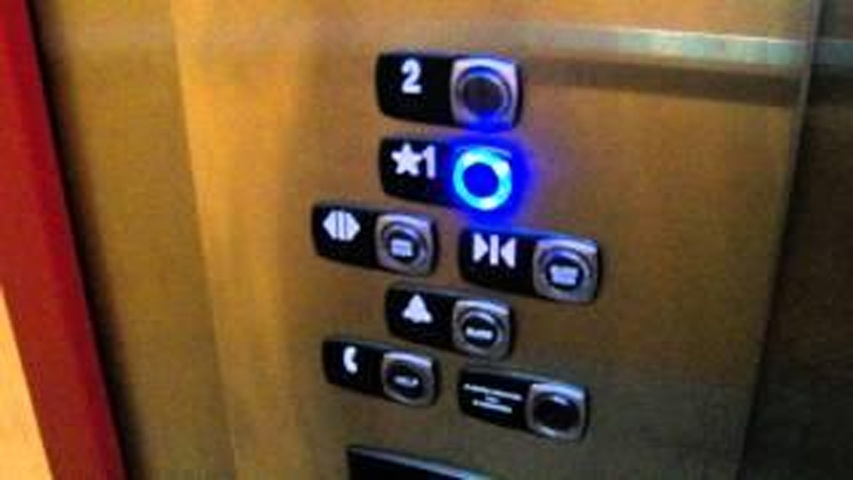2: (371, 46, 526, 133)
alarm: (380, 278, 517, 363)
call: (316, 332, 443, 411)
close: (454, 220, 603, 307)
open: (305, 198, 443, 278)
s1: (375, 129, 525, 215)
